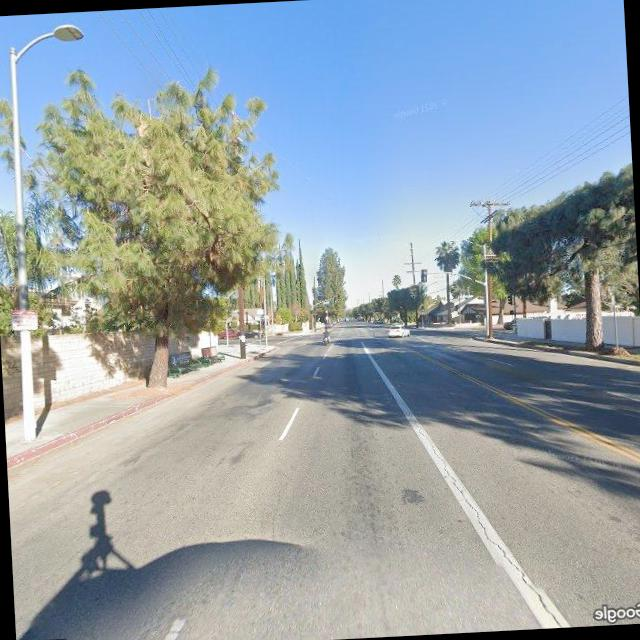pothole: (418, 420, 558, 621)
